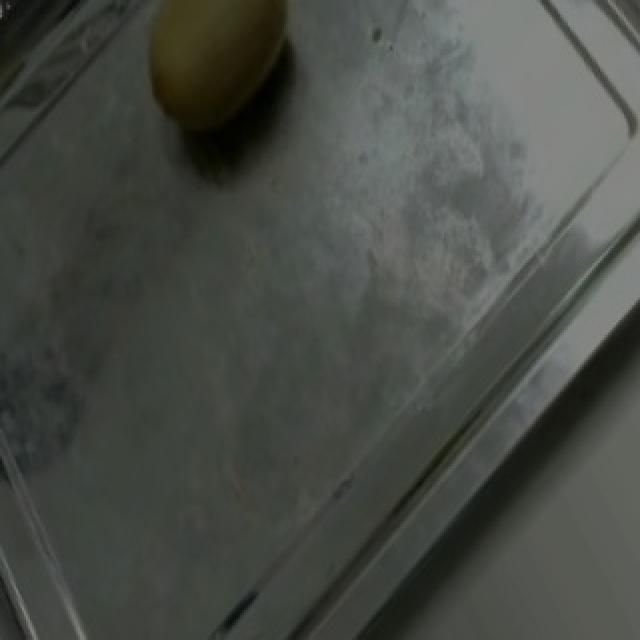Fruit: (108, 0, 332, 161)
